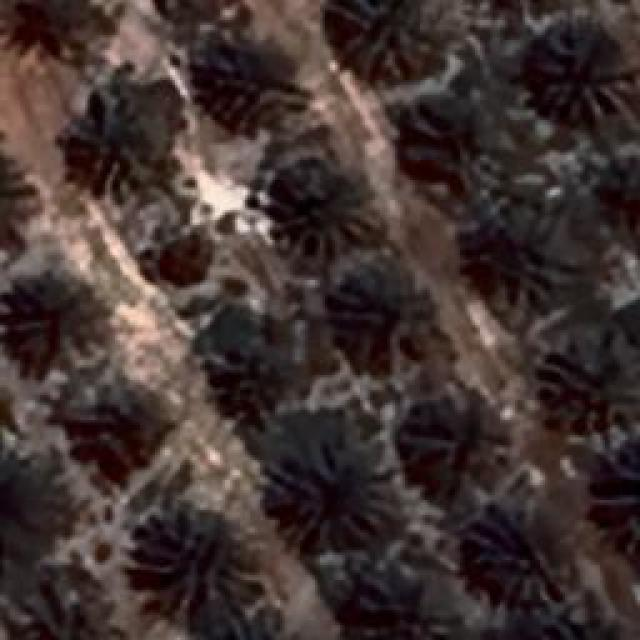PalmTree: (62, 116, 608, 494), (282, 434, 396, 548), (140, 505, 258, 613), (65, 90, 155, 195), (0, 276, 100, 366), (535, 28, 630, 122), (530, 335, 635, 420), (68, 381, 162, 474), (328, 272, 424, 360), (484, 508, 566, 608), (468, 211, 554, 304), (201, 55, 294, 140), (328, 0, 422, 80), (354, 575, 468, 640), (0, 452, 63, 568), (408, 400, 494, 482), (272, 165, 360, 245), (0, 0, 116, 57), (214, 331, 288, 419), (5, 580, 120, 635), (396, 108, 482, 170), (144, 227, 218, 290), (19, 102, 62, 196), (596, 154, 640, 241), (199, 612, 309, 640), (536, 618, 634, 640), (535, 623, 631, 640)
